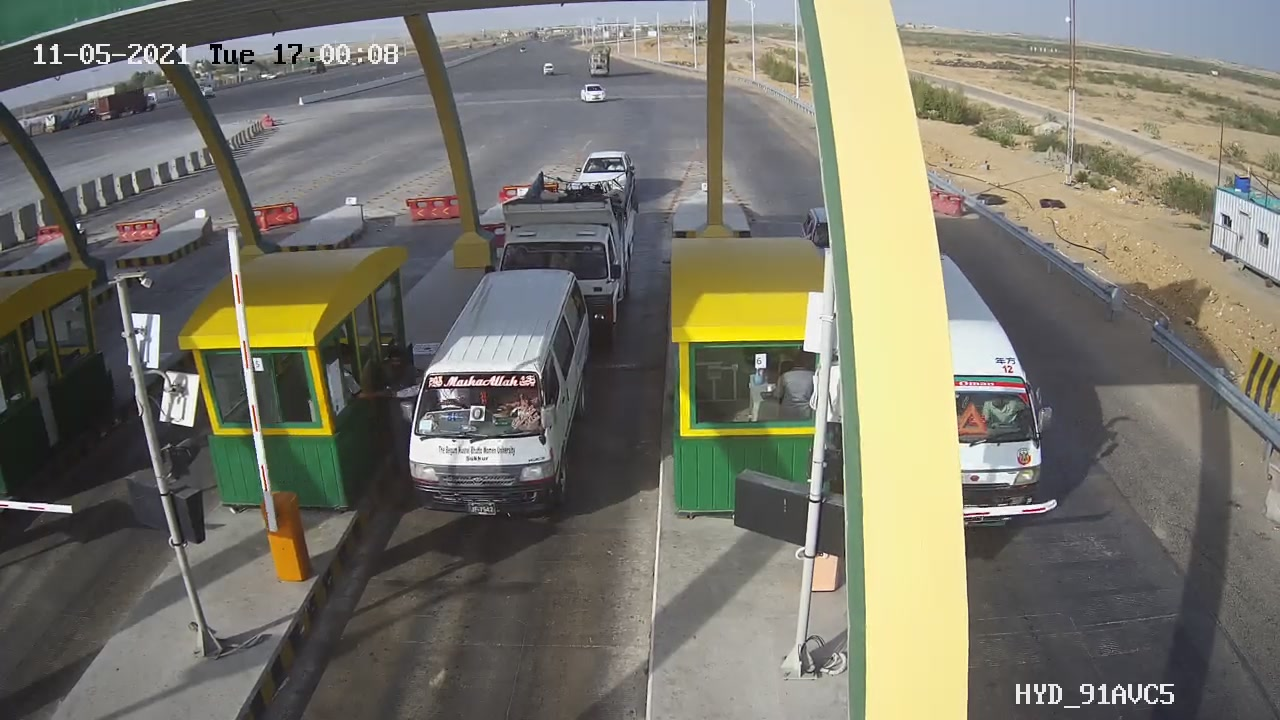F2: (387, 257, 616, 536)
